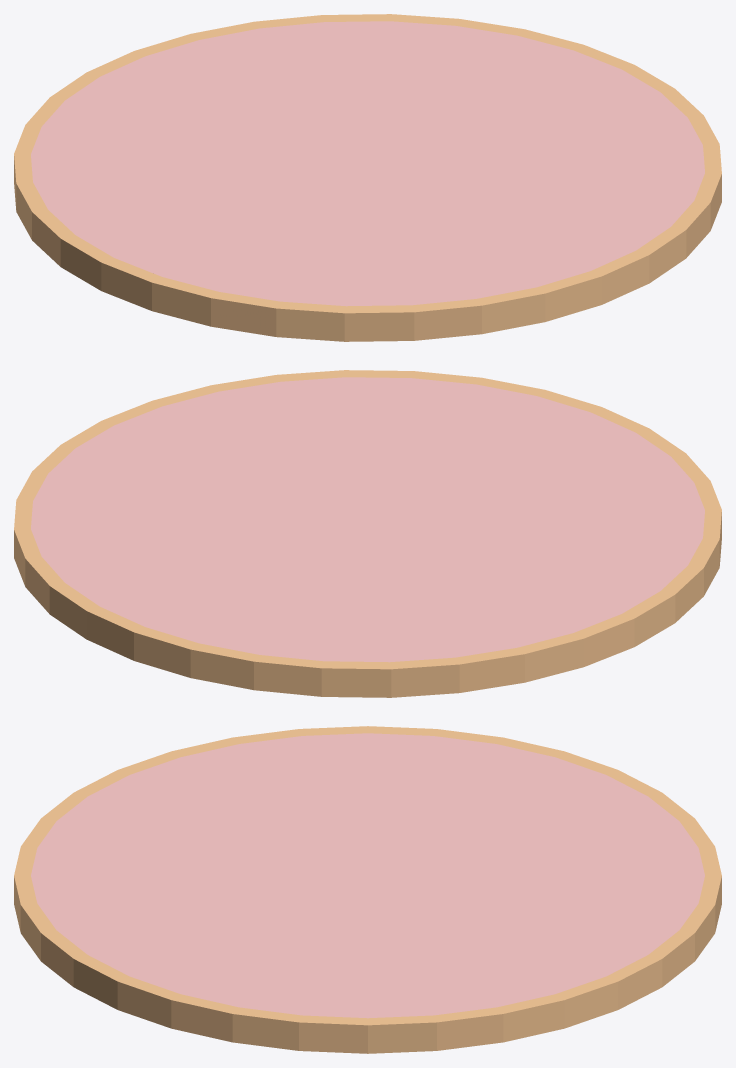
File: Turkey.fbx
The picture shows the model from 3 angles, top to bottom: view 1: azimuth 30°, elevation 25°; view 2: azimuth 150°, elevation 25°; view 3: azimuth 270°, elevation 25°; orthographic projection.
Parts seen in each view (by area): view 1: Turkey Outside, Turkey Inside; view 2: Turkey Outside, Turkey Inside; view 3: Turkey Outside, Turkey Inside.
Part boxes in pixels (left/top/right/bottom): Turkey Outside: left=31, top=21, right=704, bottom=306; Turkey Inside: left=14, top=14, right=721, bottom=341; Turkey Outside: left=31, top=377, right=704, bottom=662; Turkey Inside: left=14, top=370, right=721, bottom=697; Turkey Outside: left=31, top=733, right=704, bottom=1018; Turkey Inside: left=14, top=726, right=721, bottom=1053.
Size of the model in its own units: 210 by 9.33 by 210.
